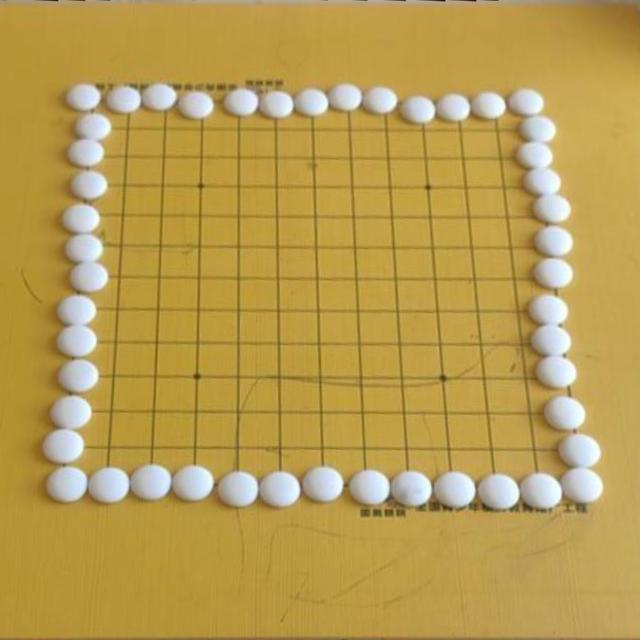whitestone: (88, 466, 132, 505), (45, 465, 89, 504), (433, 471, 476, 510), (172, 464, 215, 503), (42, 427, 86, 465), (557, 432, 602, 469), (542, 396, 588, 432), (519, 472, 562, 510), (302, 466, 344, 504), (390, 470, 432, 508), (478, 473, 520, 511), (130, 463, 172, 501), (259, 471, 302, 508), (49, 395, 93, 431), (56, 358, 100, 394), (217, 471, 259, 508), (563, 467, 603, 505), (56, 323, 99, 358), (535, 355, 579, 389), (349, 470, 390, 506), (532, 258, 576, 290), (530, 324, 572, 357), (56, 294, 98, 326), (68, 261, 110, 293), (533, 225, 575, 257), (528, 294, 570, 325), (61, 203, 102, 234), (64, 233, 104, 264), (532, 193, 572, 224), (69, 170, 108, 201), (67, 138, 106, 169), (523, 167, 562, 196), (259, 90, 295, 120), (178, 90, 214, 120), (470, 91, 507, 120), (105, 85, 142, 114), (66, 83, 102, 112), (74, 113, 111, 141), (518, 115, 556, 142), (508, 88, 546, 115), (400, 95, 435, 124), (294, 88, 329, 117), (362, 86, 397, 115), (328, 83, 363, 112), (141, 83, 177, 111), (516, 142, 554, 168), (224, 88, 258, 117), (436, 93, 470, 122)
